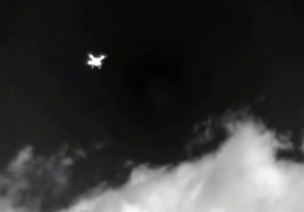Target: (88, 55, 105, 69)
